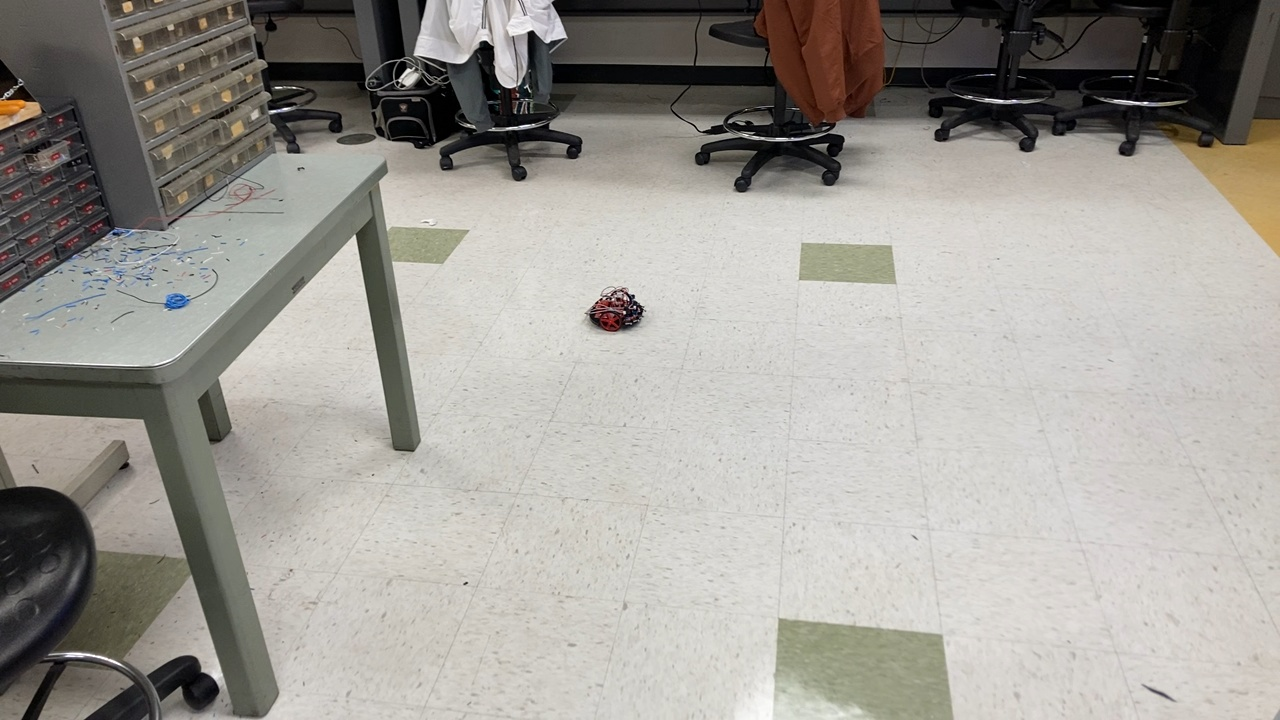robot: (582, 284, 648, 334)
